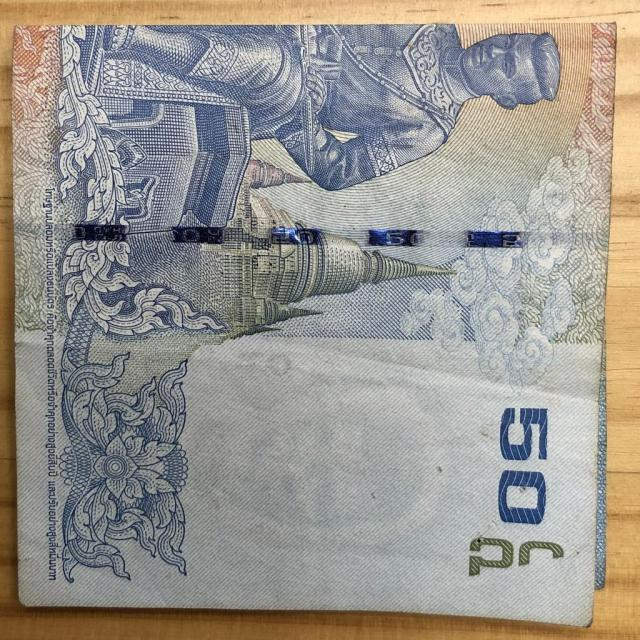THAI50: (12, 21, 616, 626)
